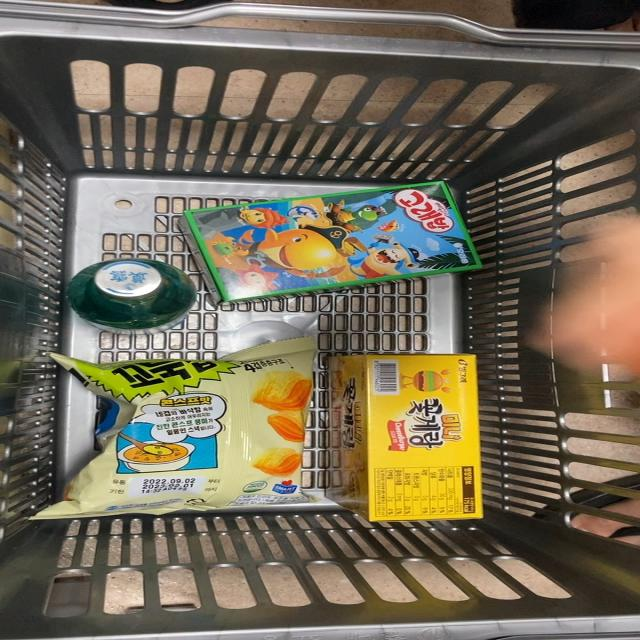ggobukchip: (56, 334, 312, 522)
goraebob: (193, 175, 494, 315)
jinro: (61, 256, 199, 338)
minicrab: (329, 335, 510, 538)
